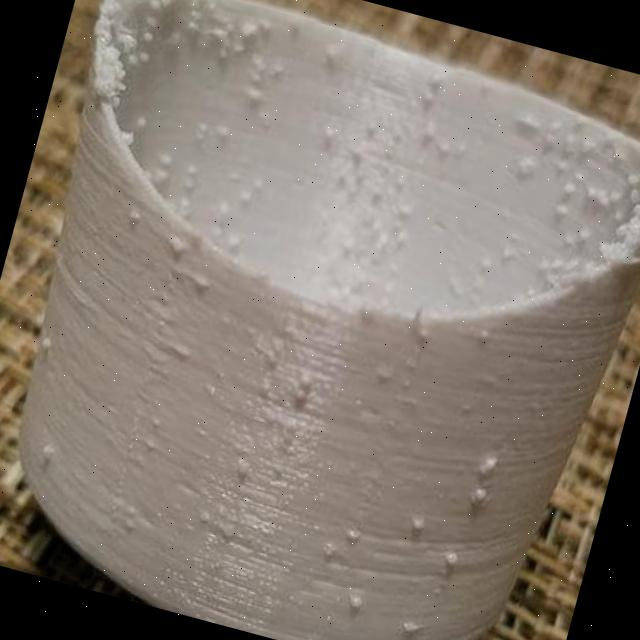blobs: (291, 417, 523, 640), (482, 104, 640, 287), (328, 92, 464, 252), (360, 299, 506, 419), (95, 210, 228, 338), (194, 15, 324, 140), (23, 427, 75, 490)
